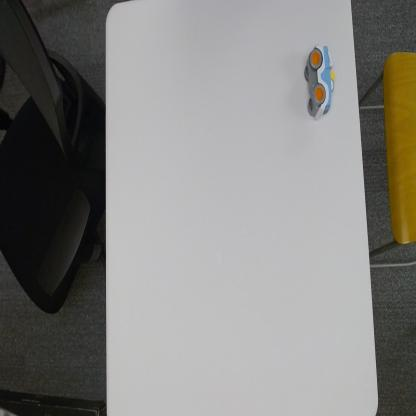Car: (302, 42, 338, 122)
